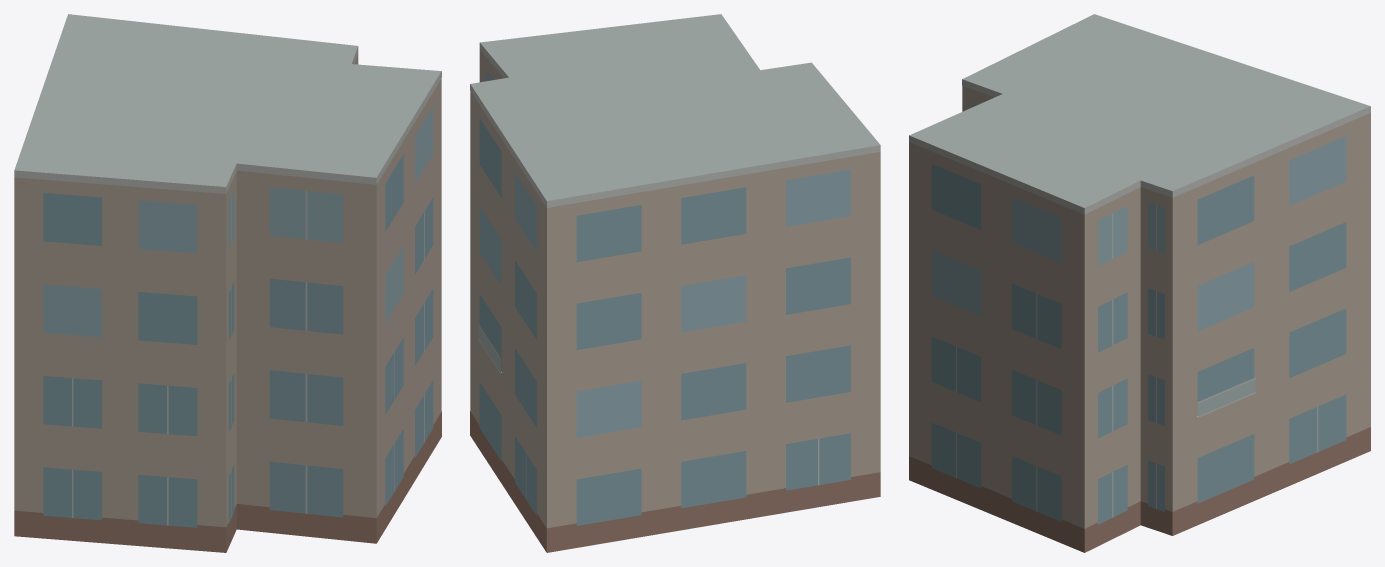
File: survey-upis-32615133.glb
3 views of the same model, side by side, from view 1: azimuth 30°, elevation 25°; view 2: azimuth 150°, elevation 25°; view 3: azimuth 270°, elevation 25° (orthographic). The views are drawn at different scales.
Visible parts, largest first — view 1: survey-upis-32615133.tmp; view 2: survey-upis-32615133.tmp; view 3: survey-upis-32615133.tmp.
Boxes of the visible parts, bbox=[...] form: survey-upis-32615133.tmp: bbox=[14, 14, 441, 552]; survey-upis-32615133.tmp: bbox=[470, 14, 880, 552]; survey-upis-32615133.tmp: bbox=[909, 14, 1370, 552].
Bounding box in the file's own units: 15.47 × 12.8 × 15.54.
